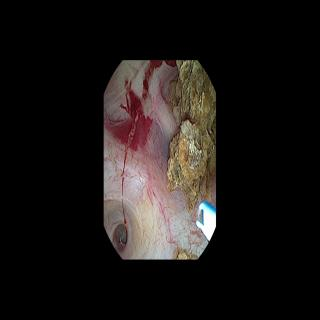fiber: (197, 203, 215, 240)
stone: (166, 63, 215, 211), (174, 248, 196, 258)
tissue: (105, 63, 202, 257)
